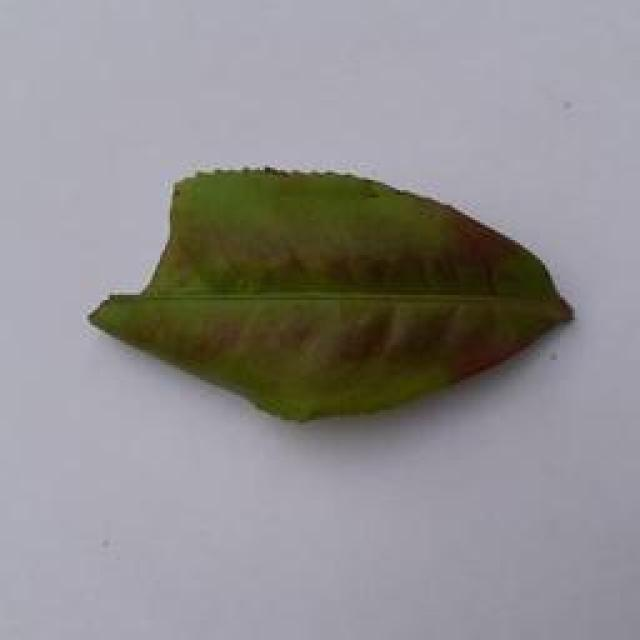Red Leaf Spot: (72, 143, 594, 429)
